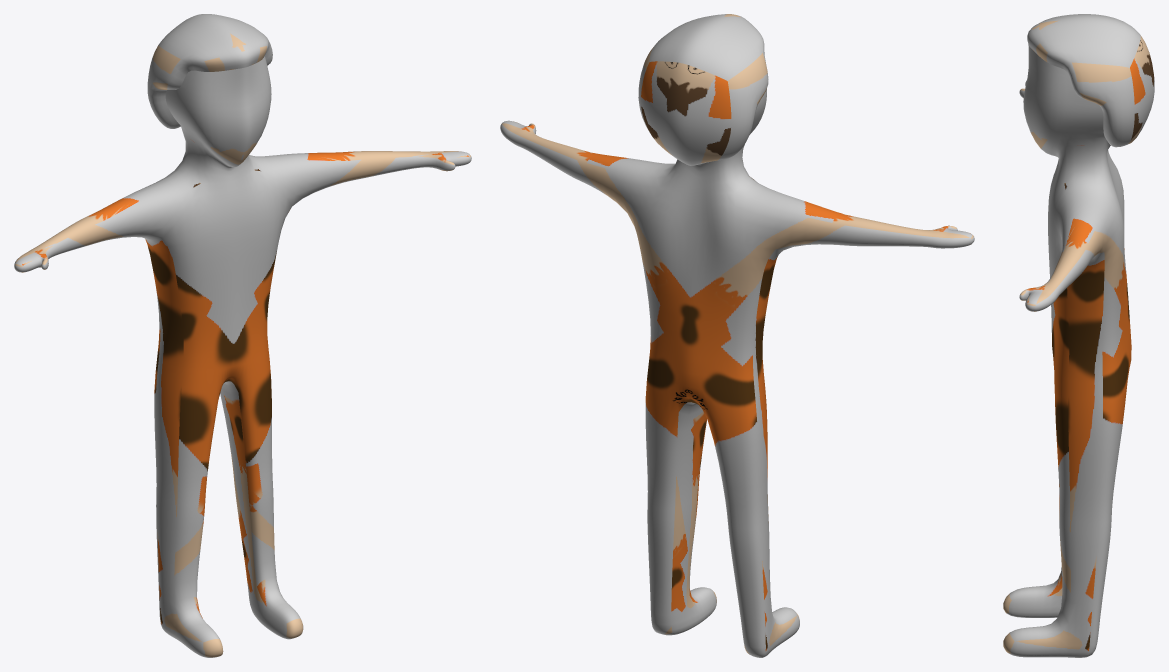
File: Human_1.fbx
3 renders of one model, left to right at view 1: azimuth 30°, elevation 25°; view 2: azimuth 150°, elevation 25°; view 3: azimuth 270°, elevation 25°, orthographic. The views are drawn at different scales.
Visible parts, largest first — view 1: Cube.001; view 2: Cube.001; view 3: Cube.001.
Part boxes in pixels (x1,y1,x2,y2): Cube.001: (14,14,471,657); Cube.001: (500,14,974,657); Cube.001: (1003,14,1154,657).
Bounding box in the file's own units: 1007 × 1269 × 283.
